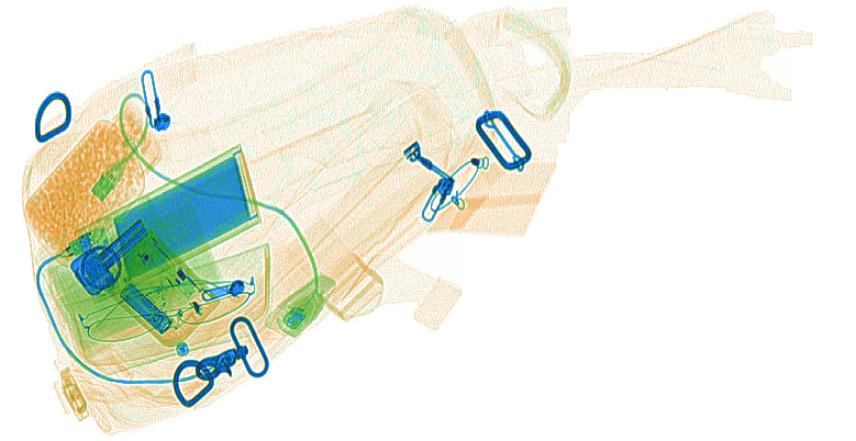battery: (117, 281, 175, 336)
